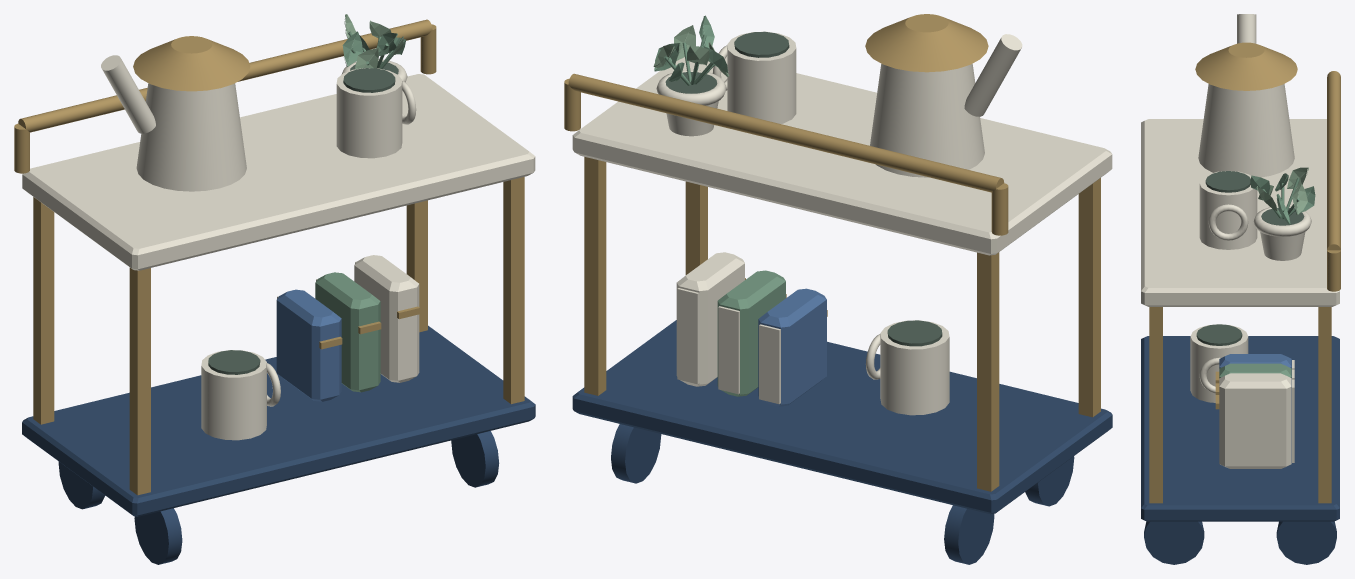
The model's file is v18_tea_cart.glb.
3 renders of one model, left to right at view 1: azimuth 30°, elevation 25°; view 2: azimuth 150°, elevation 25°; view 3: azimuth 270°, elevation 25°, orthographic. The views are drawn at different scales.
Parts seen in each view (by area): view 1: _MeshInstance3D_2170, _MeshInstance3D_2165, _MeshInstance3D_2189, _MeshInstance3D_2180, _MeshInstance3D_2186, _MeshInstance3D_2167, _MeshInstance3D_2169, _MeshInstance3D_2190, _MeshInstance3D_2183, _MeshInstance3D_2166, _MeshInstance3D_2174, _MeshInstance3D_2177 (+10 smaller); view 2: _MeshInstance3D_2165, _MeshInstance3D_2170, _MeshInstance3D_2189, _MeshInstance3D_2173, _MeshInstance3D_2166, _MeshInstance3D_2168, _MeshInstance3D_2190, _MeshInstance3D_2167, _MeshInstance3D_2180, _MeshInstance3D_2177, _MeshInstance3D_2174, _MeshInstance3D_2186 (+16 smaller); view 3: _MeshInstance3D_2170, _MeshInstance3D_2165, _MeshInstance3D_2189, _MeshInstance3D_2186, _MeshInstance3D_2190, _MeshInstance3D_2174, _MeshInstance3D_2168, _MeshInstance3D_2169, _MeshInstance3D_2173, _MeshInstance3D_2163, _MeshInstance3D_2161, _MeshInstance3D_2177 (+13 smaller).
Boxes of the visible parts, x1,y1,x2,y2 form: _MeshInstance3D_2170: (22,74,535,270); _MeshInstance3D_2165: (22,325,535,516); _MeshInstance3D_2189: (136,83,246,191); _MeshInstance3D_2180: (276,289,341,401); _MeshInstance3D_2186: (354,255,419,382); _MeshInstance3D_2167: (129,267,150,495); _MeshInstance3D_2169: (503,177,524,404); _MeshInstance3D_2190: (133,36,250,91); _MeshInstance3D_2183: (315,272,380,392); _MeshInstance3D_2166: (33,197,54,424); _MeshInstance3D_2174: (336,68,402,158); _MeshInstance3D_2177: (201,350,266,440); _MeshInstance3D_2165: (572,320,1112,514); _MeshInstance3D_2170: (572,56,1112,255); _MeshInstance3D_2189: (870,63,984,177); _MeshInstance3D_2173: (568,73,1004,192); _MeshInstance3D_2166: (977,252,999,491); _MeshInstance3D_2168: (584,157,606,395); _MeshInstance3D_2190: (865,14,988,72); _MeshInstance3D_2167: (1078,178,1100,417); _MeshInstance3D_2180: (758,288,826,406); _MeshInstance3D_2177: (880,320,949,415); _MeshInstance3D_2174: (727,31,796,123); _MeshInstance3D_2186: (676,252,744,386); _MeshInstance3D_2170: (1141,119,1339,306); _MeshInstance3D_2165: (1141,336,1339,521); _MeshInstance3D_2189: (1198,84,1294,177); _MeshInstance3D_2186: (1219,373,1291,468); _MeshInstance3D_2190: (1195,42,1297,90); _MeshInstance3D_2174: (1199,171,1257,249); _MeshInstance3D_2168: (1318,307,1331,503); _MeshInstance3D_2169: (1149,307,1162,503); _MeshInstance3D_2173: (1327,71,1340,250); _MeshInstance3D_2163: (1144,521,1204,564); _MeshInstance3D_2161: (1276,521,1336,564); _MeshInstance3D_2177: (1190,324,1248,402).
Size of the model in its own units: 1.21 by 1.3 by 0.569.
